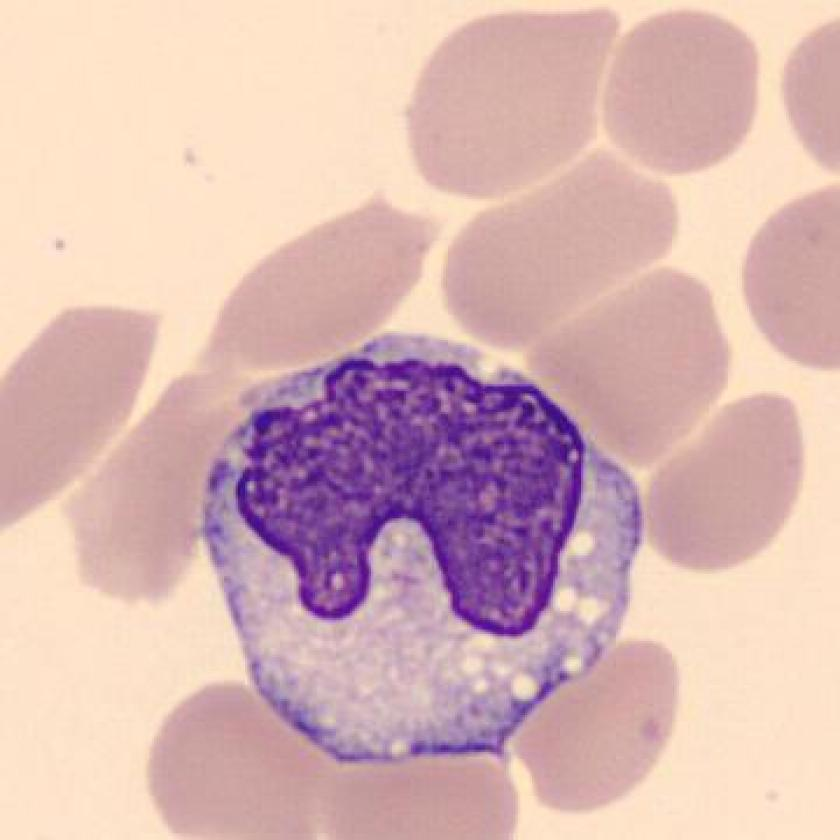monocyte: (178, 313, 664, 797)
